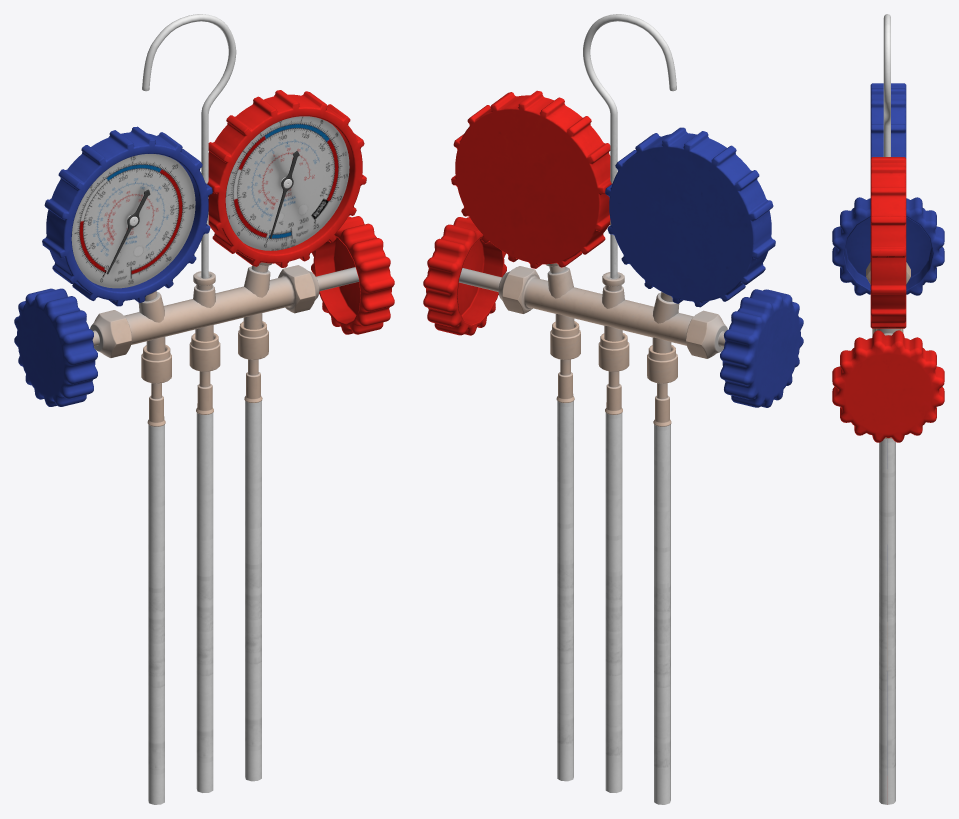
File: Manifold_Gauge_Set_grp.fbx
3 views of the same model, side by side, from view 1: azimuth 30°, elevation 25°; view 2: azimuth 150°, elevation 25°; view 3: azimuth 270°, elevation 25° (orthographic). The views are drawn at different scales.
Parts seen in each view (by area): view 1: Dial_Blue, Dial_Red, MG_Body, MG_Yellow_Hose, MG_Red_Hose, MG_Blue_Hose, Rotate_Blue, Rotate_Red, MG_Hook; view 2: Dial_Blue, Dial_Red, MG_Body, MG_Yellow_Hose, MG_Blue_Hose, MG_Red_Hose, Rotate_Blue, Rotate_Red, MG_Hook; view 3: Rotate_Red, Dial_Red, MG_Blue_Hose, Rotate_Blue, Dial_Blue, MG_Hook, MG_Body.
Part boxes in pixels (<box>): Dial_Blue: <box>42,126,212,306</box>; Dial_Red: <box>207,90,366,267</box>; MG_Body: <box>90,262,359,357</box>; MG_Yellow_Hose: <box>189,333,220,792</box>; MG_Red_Hose: <box>141,344,171,804</box>; MG_Blue_Hose: <box>238,321,268,781</box>; Rotate_Blue: <box>14,288,97,406</box>; Rotate_Red: <box>311,216,394,334</box>; MG_Hook: <box>142,14,236,278</box>; Dial_Blue: <box>605,127,775,307</box>; Dial_Red: <box>451,90,611,268</box>; MG_Body: <box>459,263,727,358</box>; MG_Yellow_Hose: <box>598,333,629,792</box>; MG_Blue_Hose: <box>550,321,580,781</box>; MG_Red_Hose: <box>647,345,677,804</box>; Rotate_Blue: <box>720,289,803,407</box>; Rotate_Red: <box>423,217,506,335</box>; MG_Hook: <box>583,14,676,278</box>; Rotate_Red: <box>832,330,944,442</box>; Dial_Red: <box>870,157,906,328</box>; MG_Blue_Hose: <box>879,437,895,804</box>; Rotate_Blue: <box>832,197,944,295</box>; Dial_Blue: <box>870,83,906,157</box>; MG_Hook: <box>883,14,890,156</box>; MG_Body: <box>866,262,910,335</box>.
Size of the model in its own units: 0.2959 by 0.6731 by 0.091.
